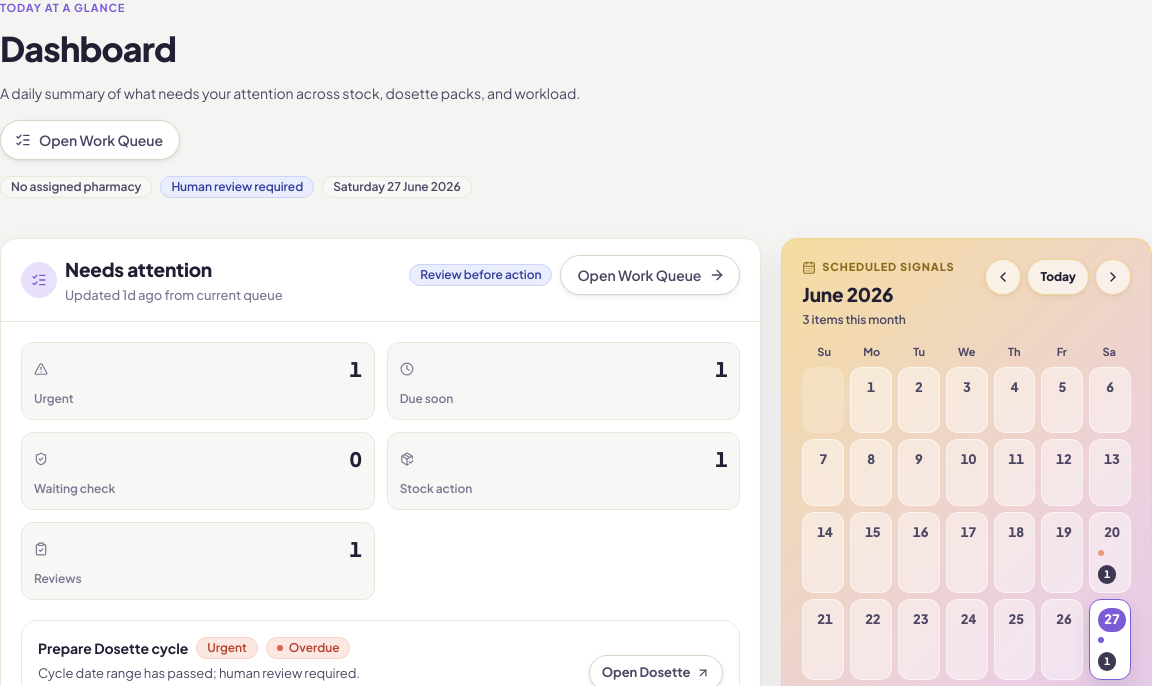
Test case: DashboardScreen work queue widget › shows an empty day state for calendar days without scheduled signals
Click the button named "Select 26 June 2026, 0 scheduled signals" at (1062, 639), box [1041,598,1083,680]
(page scrolled)
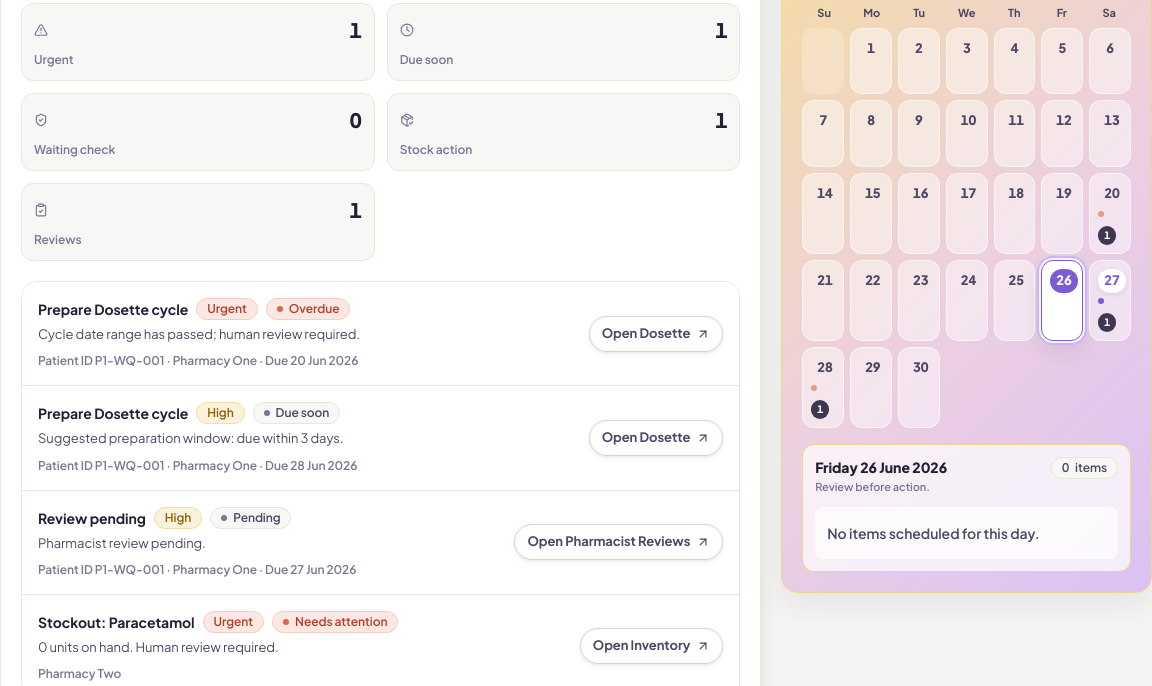
Now the text "No items scheduled for this day." is shown, box [815,507,1118,559]
